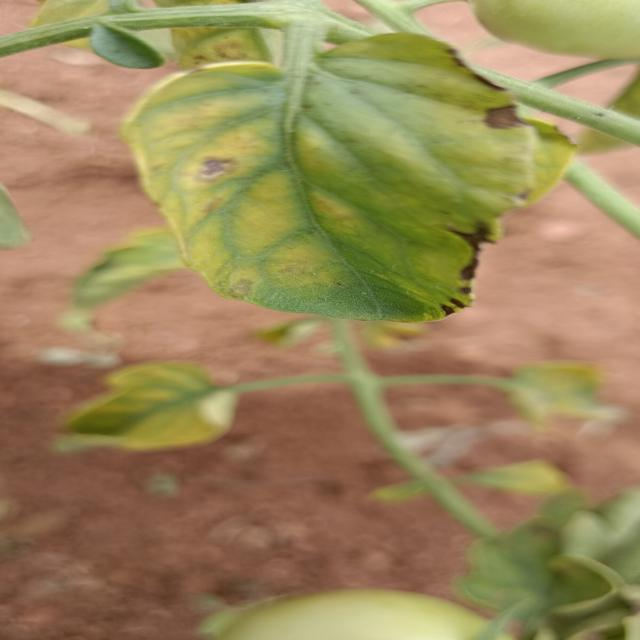tomato_early blight: (129, 28, 530, 325)
